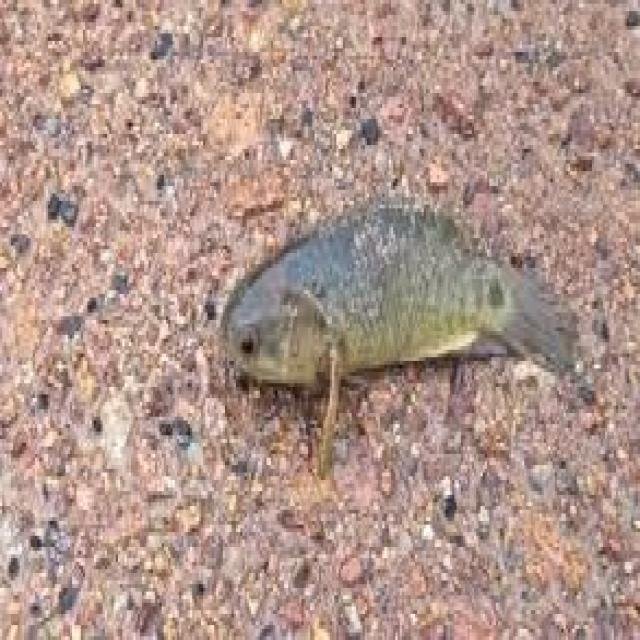Climbing-Perch: (220, 154, 640, 468)
